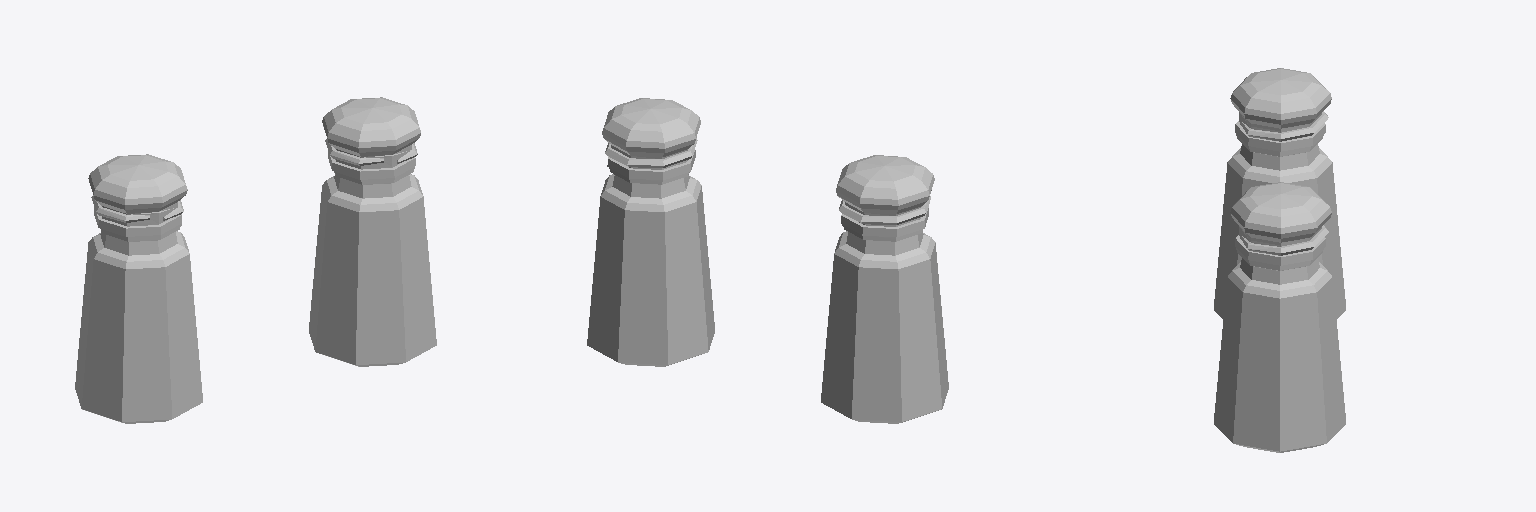
File: salt-and-pepper.obj
3 views of the same model, side by side, from view 1: azimuth 30°, elevation 25°; view 2: azimuth 150°, elevation 25°; view 3: azimuth 270°, elevation 25° (orthographic).
Visible parts, largest first — view 1: Shaker_Glass.001_Cylinder.027, Shaker_Glass_Cylinder.005, Lid.001_Cylinder.028, Lid_Cylinder.019; view 2: Shaker_Glass.001_Cylinder.027, Shaker_Glass_Cylinder.005, Lid_Cylinder.019, Lid.001_Cylinder.028; view 3: Shaker_Glass_Cylinder.005, Shaker_Glass.001_Cylinder.027, Lid_Cylinder.019, Lid.001_Cylinder.028.
Boxes of the visible parts, box(x1,y1,x2,y2) form: Shaker_Glass.001_Cylinder.027: box(75, 224, 202, 423); Shaker_Glass_Cylinder.005: box(309, 167, 436, 366); Lid.001_Cylinder.028: box(88, 154, 187, 236); Lid_Cylinder.019: box(322, 97, 420, 179); Shaker_Glass.001_Cylinder.027: box(821, 225, 948, 423); Shaker_Glass_Cylinder.005: box(587, 168, 714, 366); Lid_Cylinder.019: box(602, 98, 700, 179); Lid.001_Cylinder.028: box(836, 155, 934, 236); Shaker_Glass_Cylinder.005: box(1214, 241, 1345, 452); Shaker_Glass.001_Cylinder.027: box(1214, 127, 1345, 318); Lid_Cylinder.019: box(1230, 182, 1331, 265); Lid.001_Cylinder.028: box(1230, 68, 1331, 151).
Size of the model in its own units: 0.1493 by 0.0973 by 0.0493.